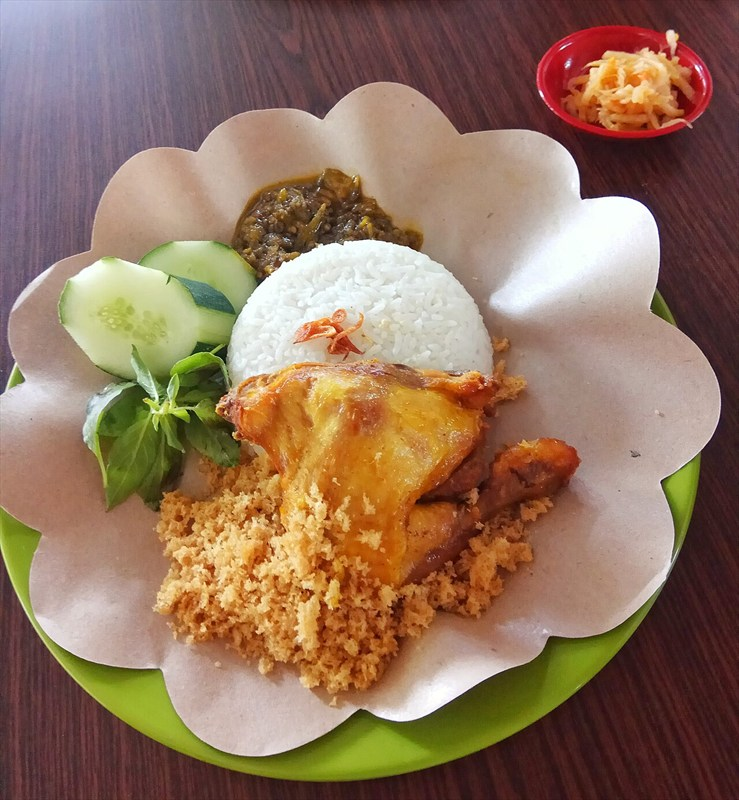Ayam Goreng: (80, 59, 668, 721)
